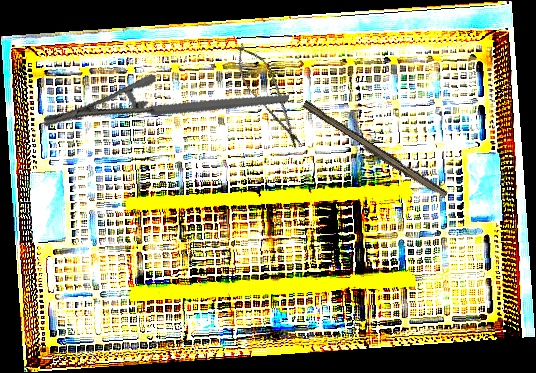Micro Scissor: (225, 36, 313, 155)
Needle Holder: (42, 38, 290, 183)
Scalpel Handle: (299, 100, 450, 201)
